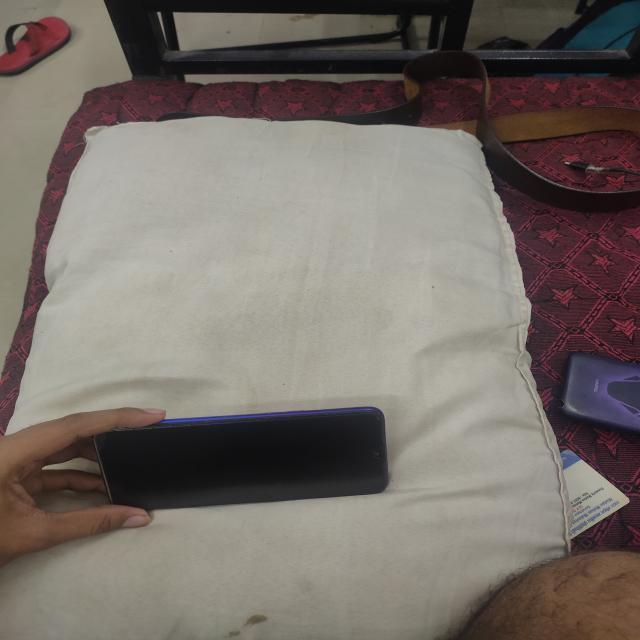Phone: (92, 404, 393, 506), (551, 346, 640, 435)
